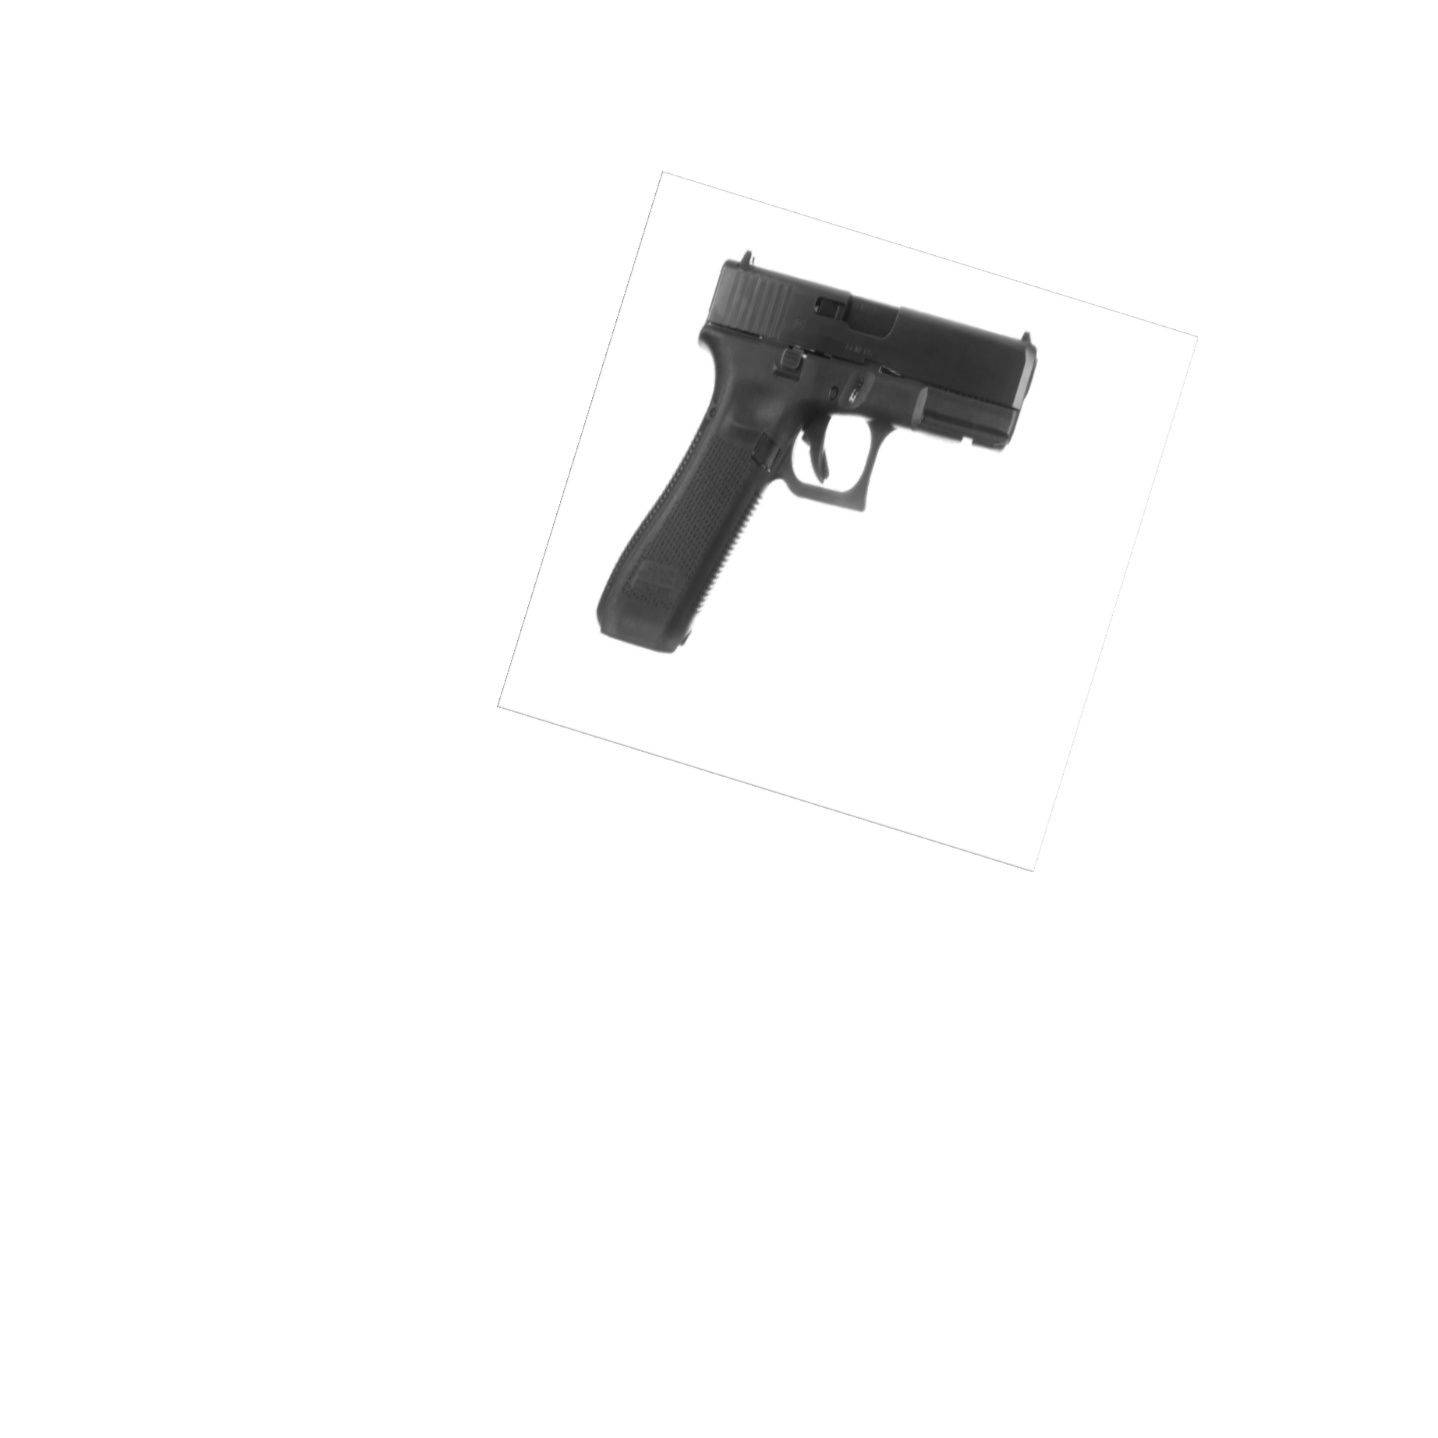gun: (591, 240, 1046, 673)
